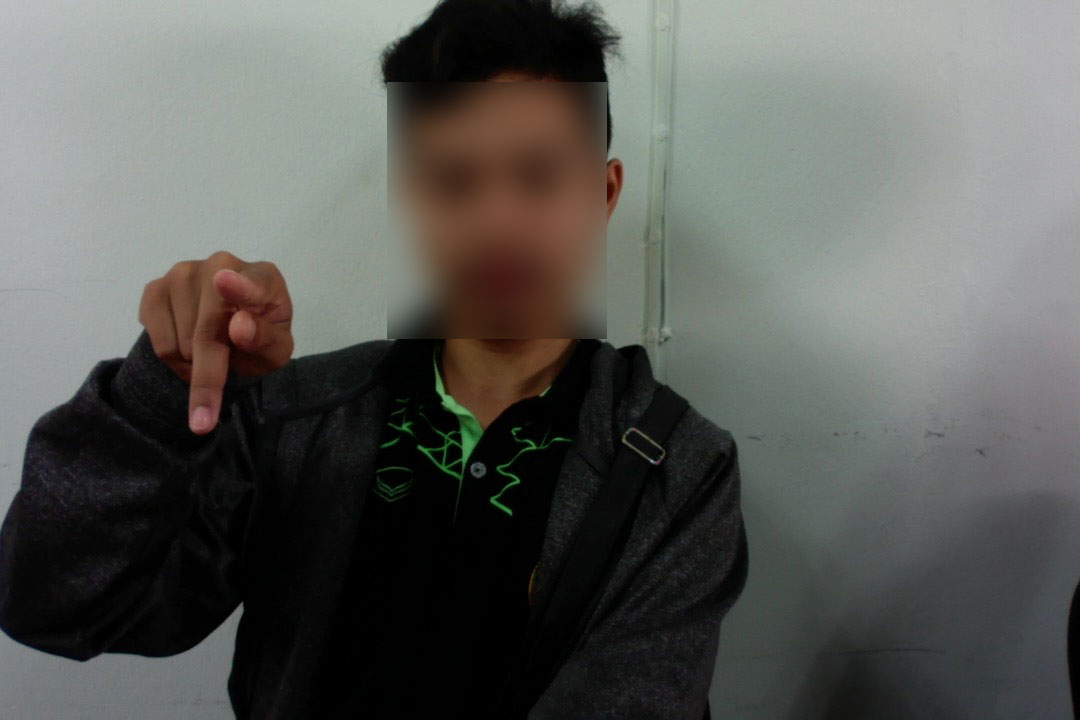por: (128, 242, 303, 445)
